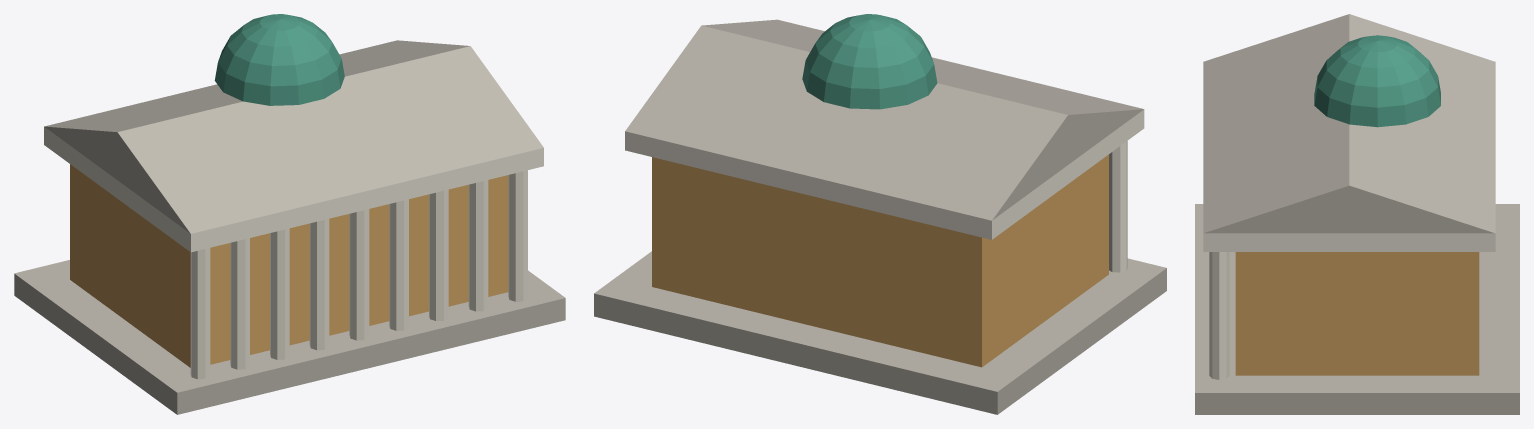
File: great_library.glb
3 renders of one model, left to right at view 1: azimuth 30°, elevation 25°; view 2: azimuth 150°, elevation 25°; view 3: azimuth 270°, elevation 25°, orthographic. The views are drawn at different scales.
Visible parts, largest first — view 1: great_library; view 2: great_library; view 3: great_library.
Part boxes in pixels (x1,y1,x2,y2): great_library: (14,14,565,414); great_library: (594,14,1166,414); great_library: (1195,14,1519,414).
Size of the model in its own units: 1.1 by 0.76 by 0.8.
